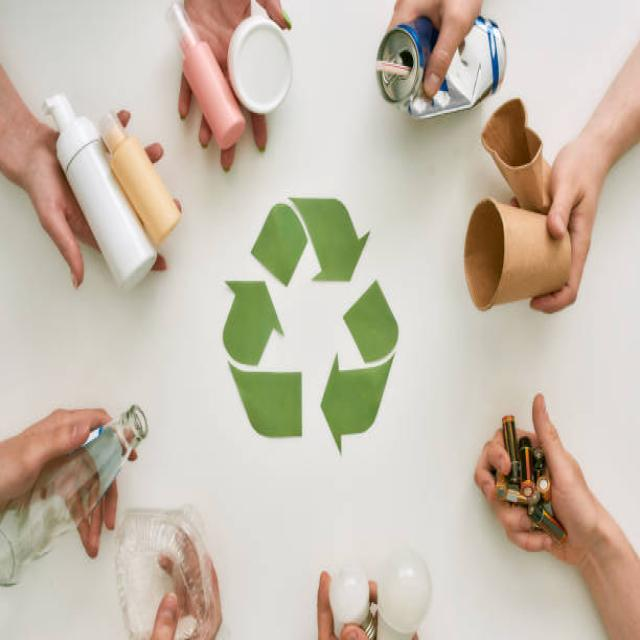cardboard: (448, 107, 580, 317)
glass: (1, 412, 157, 579)
metal: (371, 25, 506, 108)
plastic: (43, 80, 177, 281), (170, 6, 306, 116)
